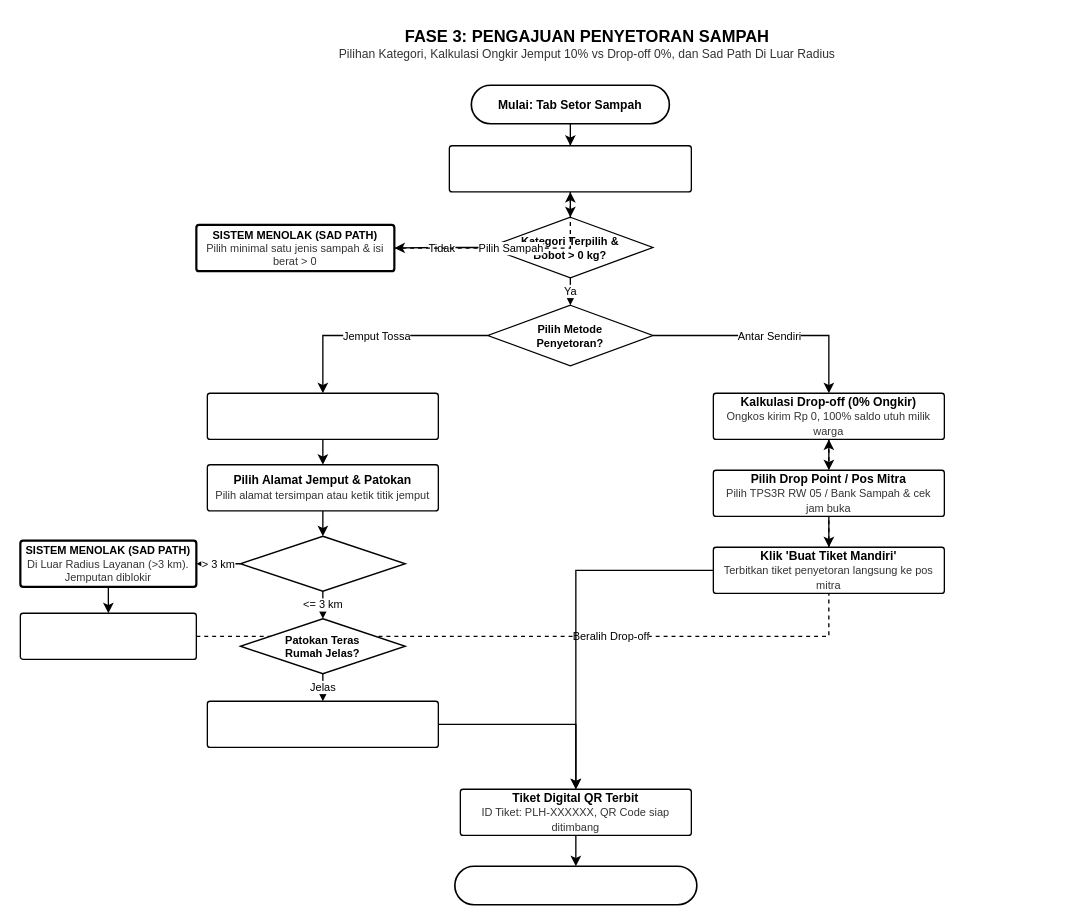
The diagram is 1073 pixels wide and 924 high, and some of its shapes have lost their labels. Here are the shapes that lost their labels. From the top down, the box of each, then its label:
(448, 145, 691, 192): Pilih Kategori & Atur Berat (kg) Centang sampah (Kardus/PET) & atur kg stepper
(206, 392, 438, 440): Kalkulasi Ongkir Jemput 10% Gross Total dikurangi 10% operasional motor Tossa
(239, 535, 405, 591): Alamat Dalam Radius <= 3 km?
(19, 612, 196, 660): Arahkan ke Drop-off Mandiri Sistem arahkan setor langsung ke Pos Mitra terdekat
(206, 700, 438, 748): Klik 'Ajukan Penjemputan Tossa' Terbitkan tiket penjemputan armada roda 3 RW
(454, 865, 697, 905): Selesai: Menunggu Penimbangan Lapangan
